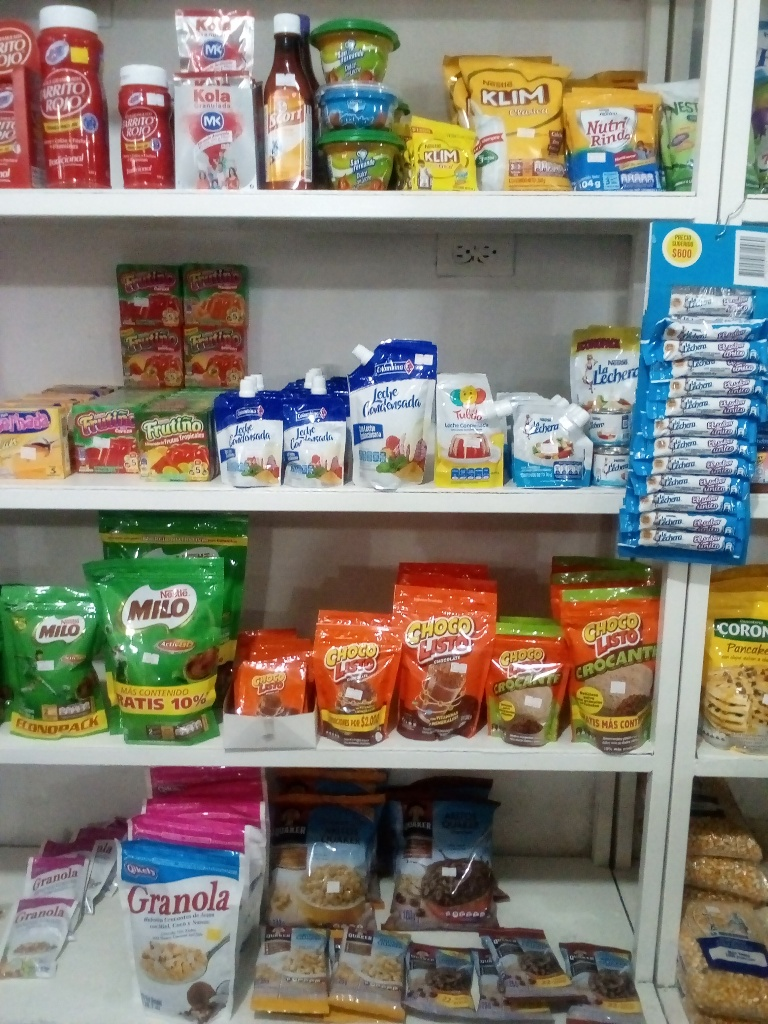COL0170102DYP10000: (492, 618, 562, 744)
COL0170102DYP25000: (562, 567, 659, 757)
COL0170103DYP10000: (313, 610, 394, 745)
COL0170103DYP20000: (397, 569, 496, 745)
COL0170103SOB02000: (236, 632, 302, 716)
COL0170203DYP25000: (1, 581, 109, 743)
COL0170203DYP50000: (87, 557, 230, 742)
